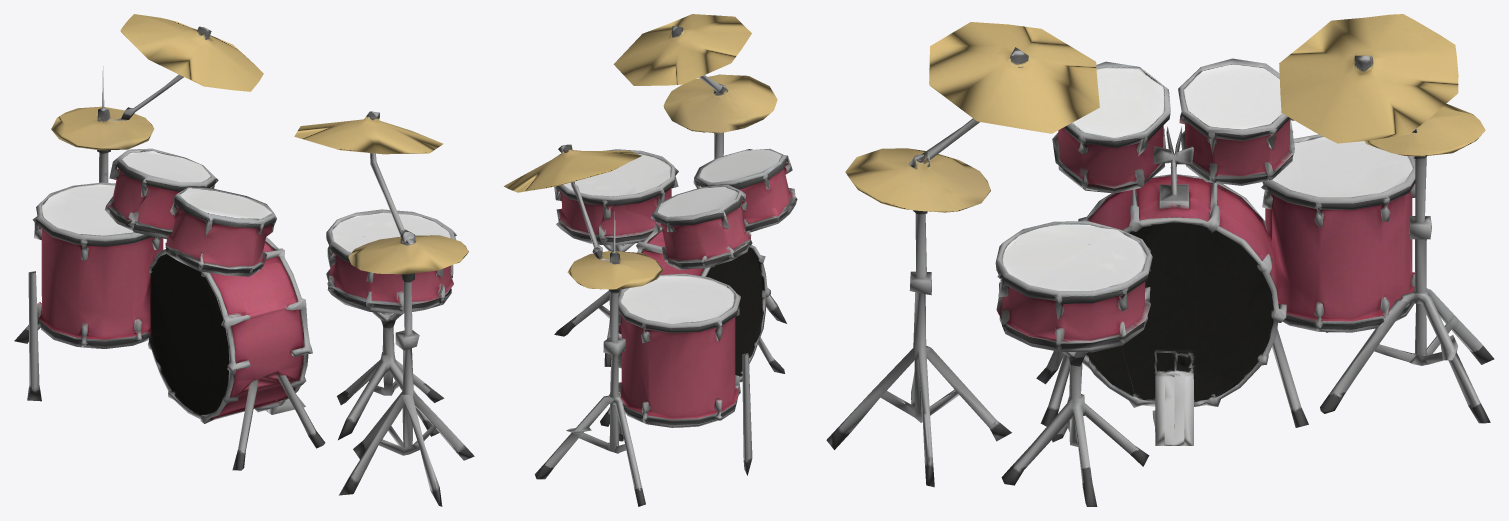
The model's file is drum_kit_3d_model.fbx.
The picture shows the model from 3 angles, left to right: view 1: azimuth 30°, elevation 25°; view 2: azimuth 150°, elevation 25°; view 3: azimuth 270°, elevation 25°; orthographic projection. The views are drawn at different scales.
Parts seen in each view (by area): view 1: tripo_node_31a41eea; view 2: tripo_node_31a41eea; view 3: tripo_node_31a41eea.
Boxes of the visible parts, left/top/right/bottom form: tripo_node_31a41eea: left=14, top=14, right=474, bottom=506; tripo_node_31a41eea: left=504, top=14, right=797, bottom=506; tripo_node_31a41eea: left=826, top=14, right=1494, bottom=506.
Bounding box in the file's own units: 0.6342 × 0.6548 × 0.9814.
